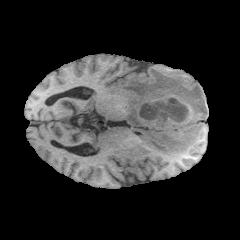glioma: (122, 67, 207, 155)
